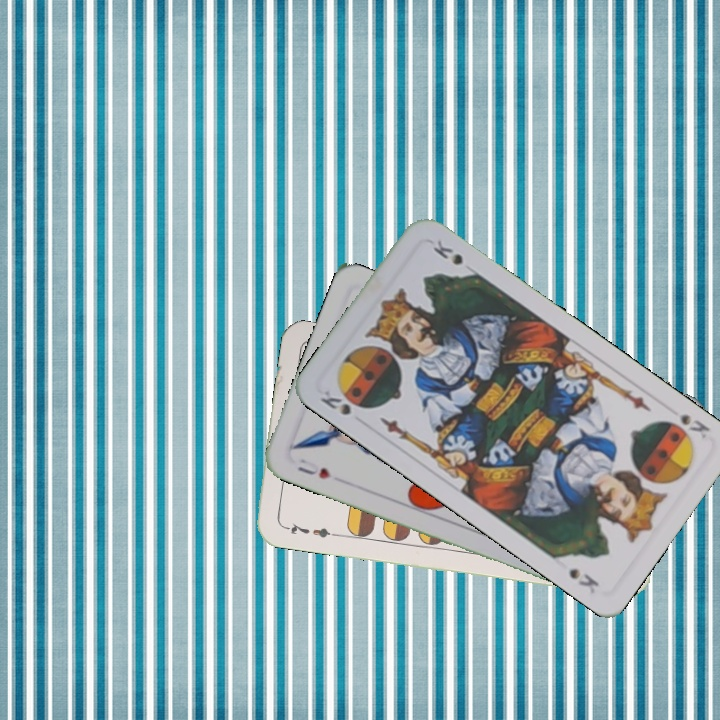E7: (278, 519, 337, 541)
HU: (292, 454, 333, 482)
SK: (659, 410, 713, 443), (316, 386, 354, 418)
